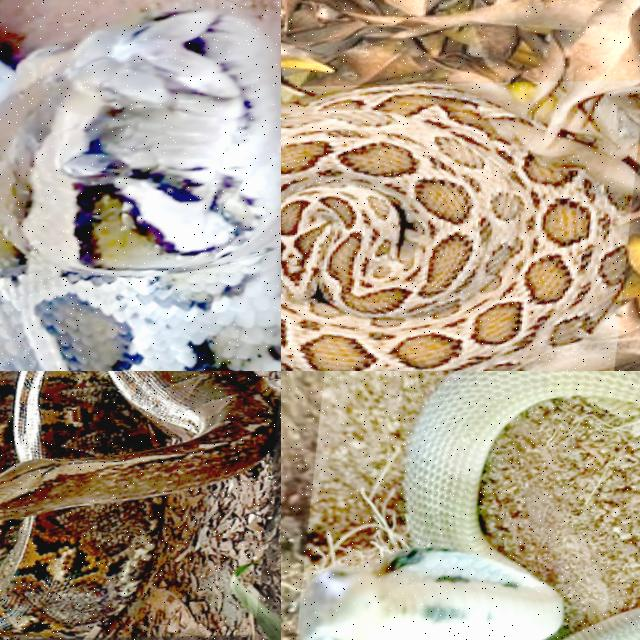Daboia siamensis: (281, 85, 626, 370)
Malayopython reticulatus: (0, 371, 276, 638)
Naja siamensis: (299, 371, 639, 639)
Python bivittatus: (0, 10, 280, 370)
snake: (0, 10, 280, 370), (281, 85, 626, 370), (299, 371, 639, 639), (0, 371, 276, 638)
